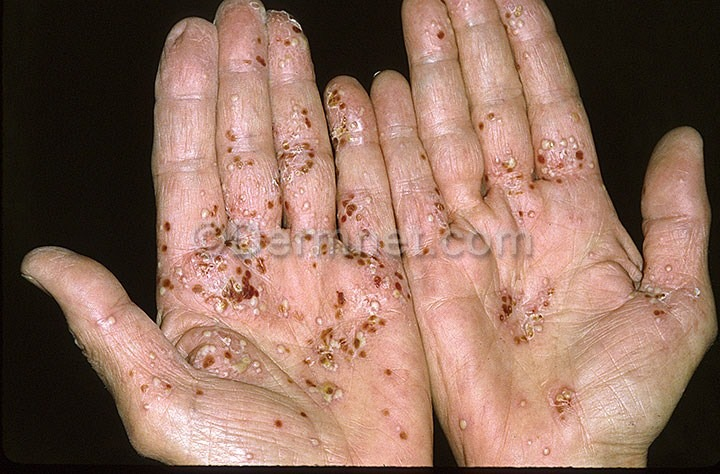Psoriasis: (223, 81, 374, 202), (307, 259, 409, 418), (130, 316, 289, 417), (152, 206, 271, 317), (471, 129, 612, 222), (624, 220, 707, 337), (482, 264, 568, 355), (226, 140, 331, 194), (510, 370, 595, 434), (411, 181, 479, 255), (425, 6, 541, 47), (239, 8, 313, 66)
